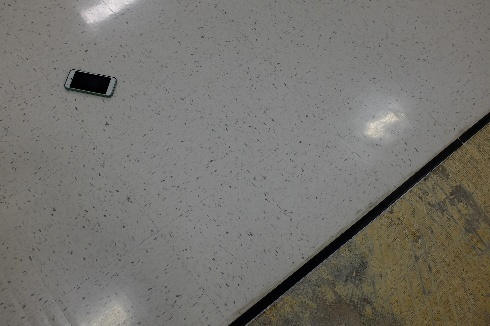phone: (66, 67, 115, 99)
